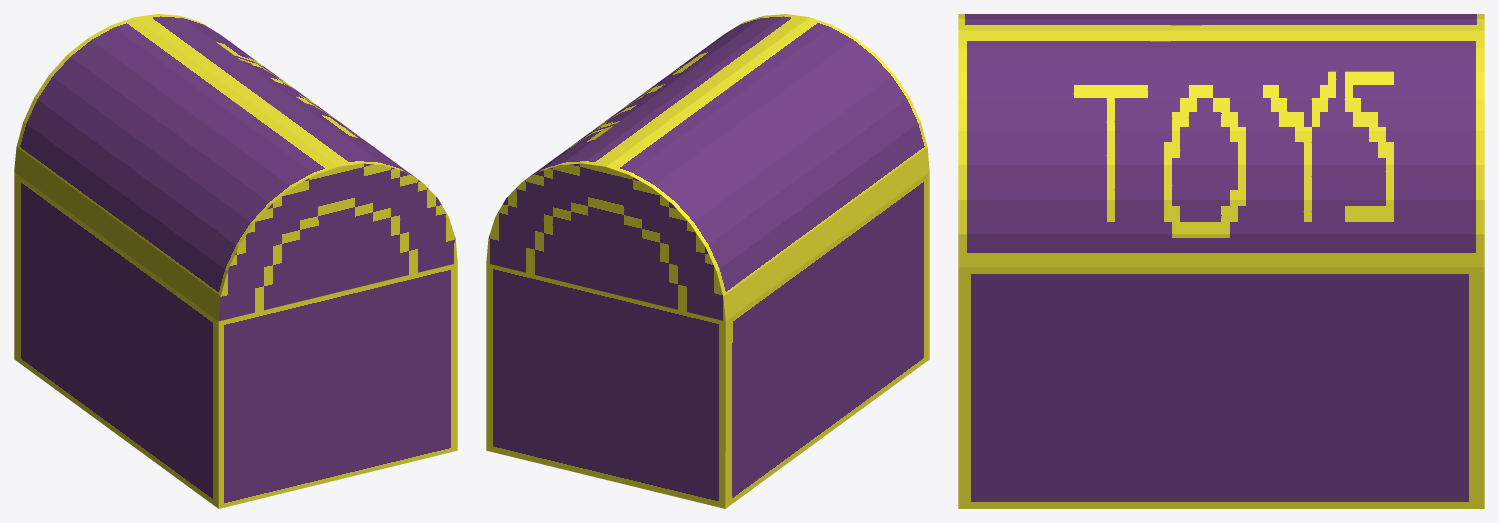
The model's file is toychest.glb.
3 views of the same model, side by side, from view 1: azimuth 30°, elevation 25°; view 2: azimuth 150°, elevation 25°; view 3: azimuth 270°, elevation 25° (orthographic). The views are drawn at different scales.
Parts seen in each view (by area): view 1: Cylinder; view 2: Cylinder; view 3: Cylinder.
Boxes of the visible parts, box(x1,y1,x2,y2) form: Cylinder: box(14, 14, 457, 508); Cylinder: box(486, 14, 929, 508); Cylinder: box(958, 14, 1484, 508).
Bounding box in the file's own units: 1.35 × 1.69 × 2.
Materials: 1 (1 with a texture image).
